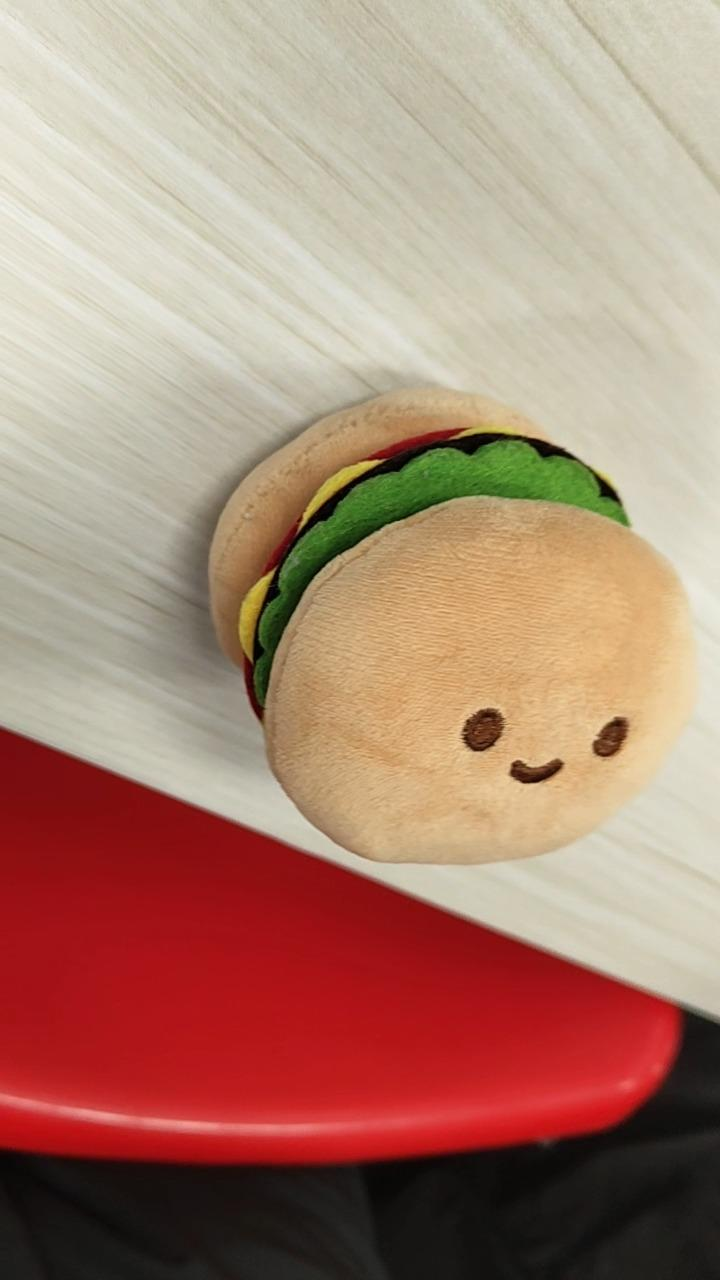hamburger: (205, 384, 697, 867)
